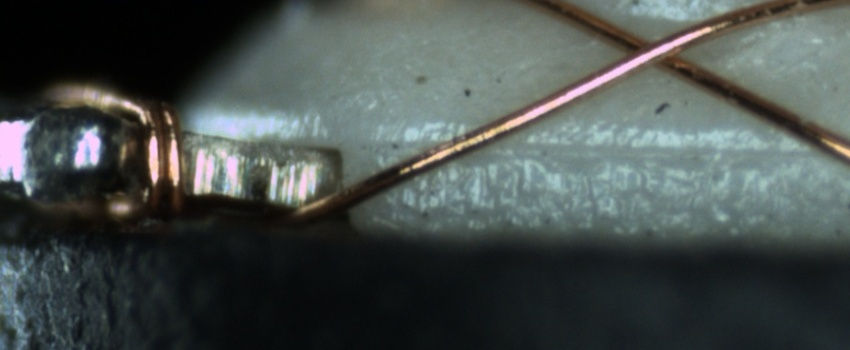CL: (598, 20, 700, 79)
DL: (385, 117, 850, 177)
TE: (42, 79, 197, 220)
